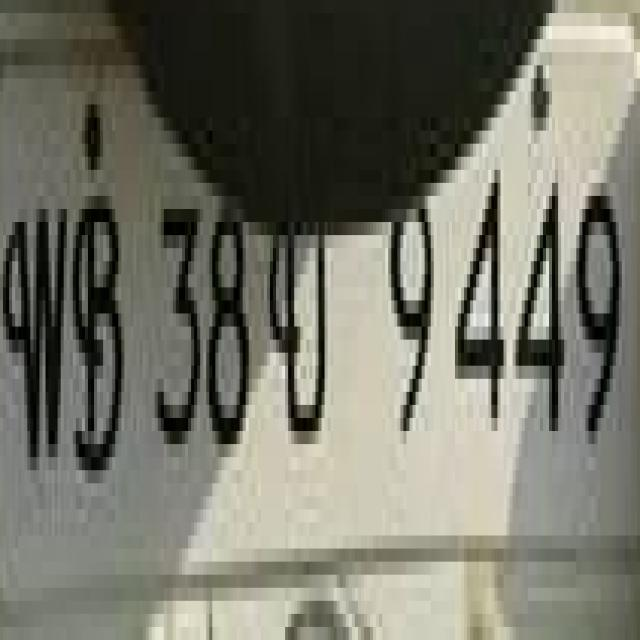license_plate: (27, 26, 640, 588)
